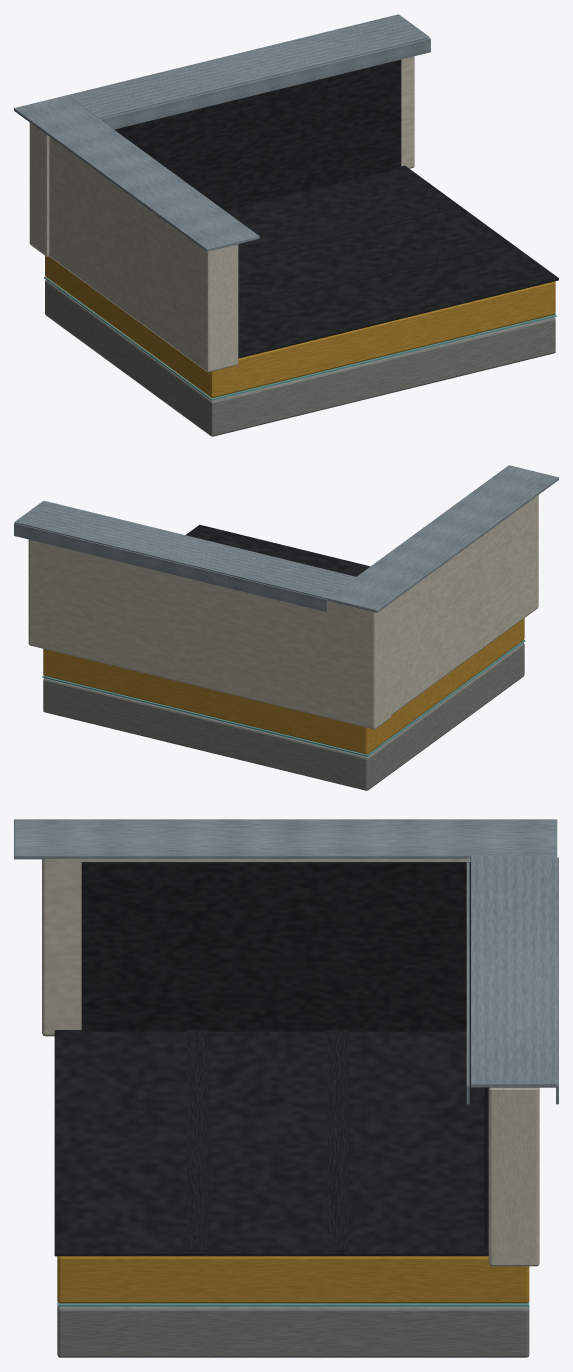
File: modell.glb
3 renders of one model, top to bottom at view 1: azimuth 30°, elevation 25°; view 2: azimuth 150°, elevation 25°; view 3: azimuth 270°, elevation 25°, orthographic. The views are drawn at different scales.
Visible parts, largest first — view 1: f05-abdichtung_deckung, f05-ecke_, f05-untergrund_tragwerk, f05-daemmung_daemmung, f05-abdeckung_, f05-ecke_.001, f05-naht_deckung, f05-attika_, f05-luftdichtheit_luftdichtheit; view 2: f05-attika_, f05-ecke_, f05-untergrund_tragwerk, f05-abdeckung_, f05-daemmung_daemmung, f05-ecke_.001, f05-abdichtung_deckung, f05-luftdichtheit_luftdichtheit; view 3: f05-abdichtung_deckung, f05-untergrund_tragwerk, f05-daemmung_daemmung, f05-ecke_.001, f05-abdeckung_, f05-naht_deckung, f05-attika_, f05-ecke_, f05-luftdichtheit_luftdichtheit.
Boxes of the visible parts, left/top/right/bottom form: f05-abdichtung_deckung: left=114, top=59, right=558, bottom=358; f05-ecke_: left=49, top=137, right=238, bottom=372; f05-untergrund_tragwerk: left=45, top=280, right=555, bottom=436; f05-daemmung_daemmung: left=45, top=256, right=555, bottom=397; f05-abdeckung_: left=67, top=14, right=430, bottom=129; f05-ecke_.001: left=14, top=95, right=259, bottom=251; f05-naht_deckung: left=238, top=201, right=510, bottom=309; f05-attika_: left=29, top=56, right=414, bottom=256; f05-luftdichtheit_luftdichtheit: left=44, top=276, right=556, bottom=400; f05-attika_: left=28, top=539, right=391, bottom=729; f05-ecke_: left=391, top=495, right=538, bottom=715; f05-untergrund_tragwerk: left=43, top=643, right=524, bottom=790; f05-abdeckung_: left=14, top=500, right=355, bottom=611; f05-daemmung_daemmung: left=43, top=618, right=524, bottom=754; f05-ecke_.001: left=327, top=465, right=558, bottom=612; f05-abdichtung_deckung: left=185, top=524, right=370, bottom=576; f05-luftdichtheit_luftdichtheit: left=42, top=640, right=525, bottom=756; f05-abdichtung_deckung: left=54, top=862, right=488, bottom=1256; f05-untergrund_tragwerk: left=57, top=1306, right=529, bottom=1357; f05-daemmung_daemmung: left=57, top=1256, right=529, bottom=1303; f05-ecke_.001: left=14, top=819, right=557, bottom=859; f05-abdeckung_: left=466, top=856, right=558, bottom=1104; f05-naht_deckung: left=187, top=1029, right=348, bottom=1251; f05-attika_: left=488, top=1087, right=539, bottom=1266; f05-ecke_: left=42, top=859, right=470, bottom=1036; f05-luftdichtheit_luftdichtheit: left=57, top=1301, right=529, bottom=1306.
Bounding box in the file's own units: 2.45 × 1.25 × 2.14.
6 materials, 5 textured.
